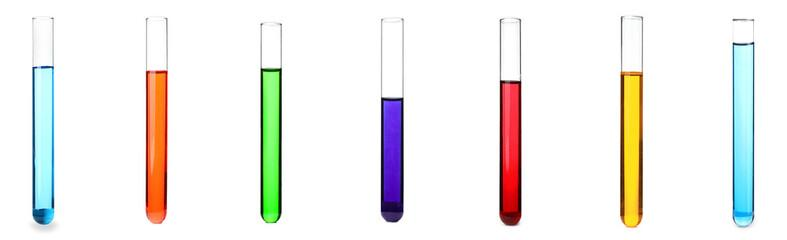Test tube: (24, 15, 64, 225), (611, 12, 648, 230), (494, 17, 532, 225), (137, 12, 172, 226), (254, 14, 288, 223), (730, 8, 760, 229), (381, 11, 406, 227)
